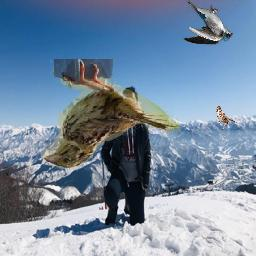Sparrow: (42, 59, 181, 169), (216, 106, 239, 131)
Swallow: (183, 1, 233, 46)
